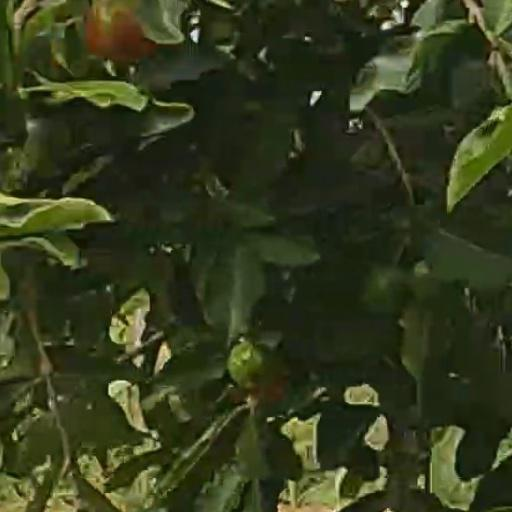acerola_verde: (228, 343, 273, 387)
acerola_vermelha: (86, 1, 149, 59)
